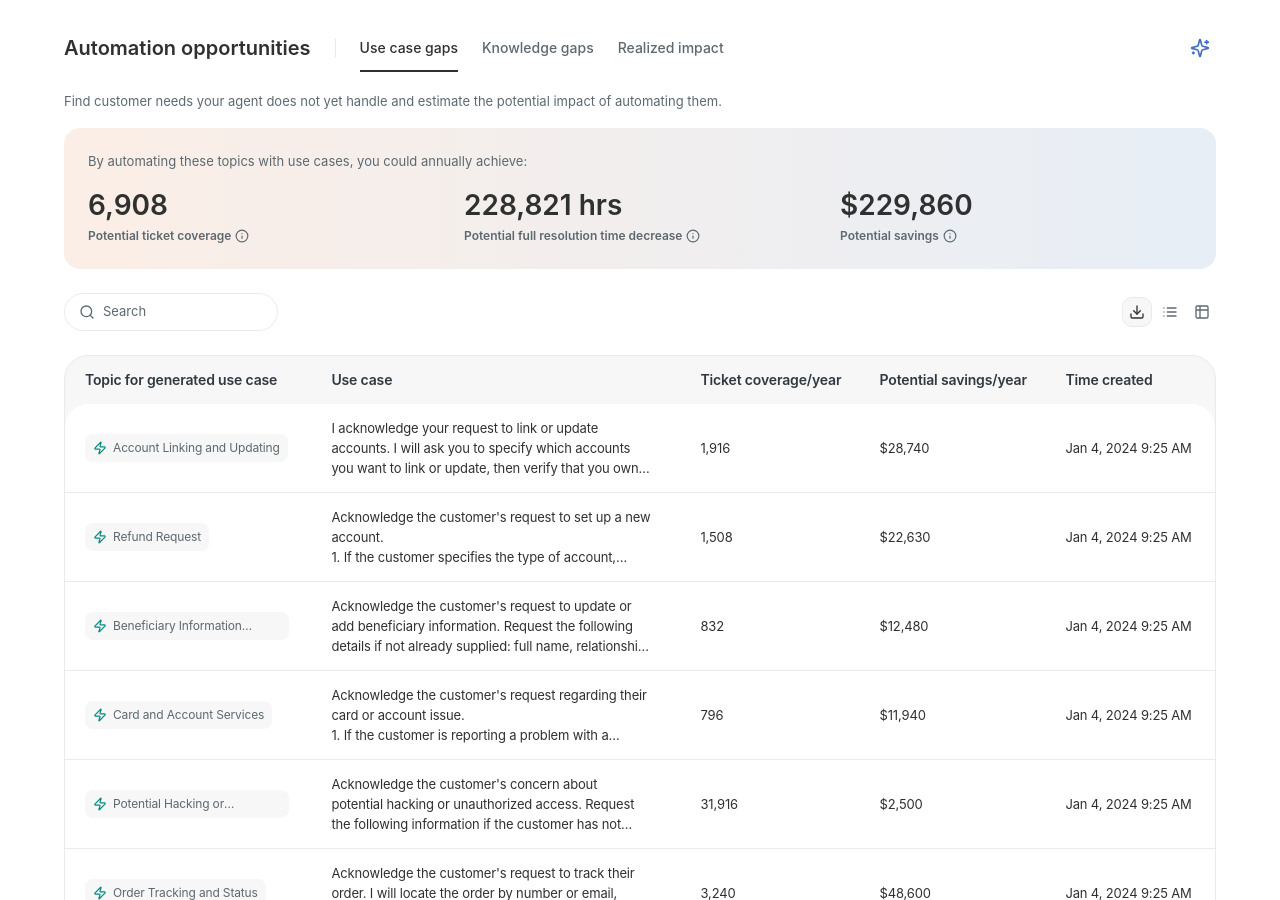
Test case: per-screen header AI triggers (route-derived scope) › opens the scoped assistant from /insights/automations header
Step 1. Click the button named "Ask AI about this page" → (1200, 48), box 1184,32 -> 1216,64
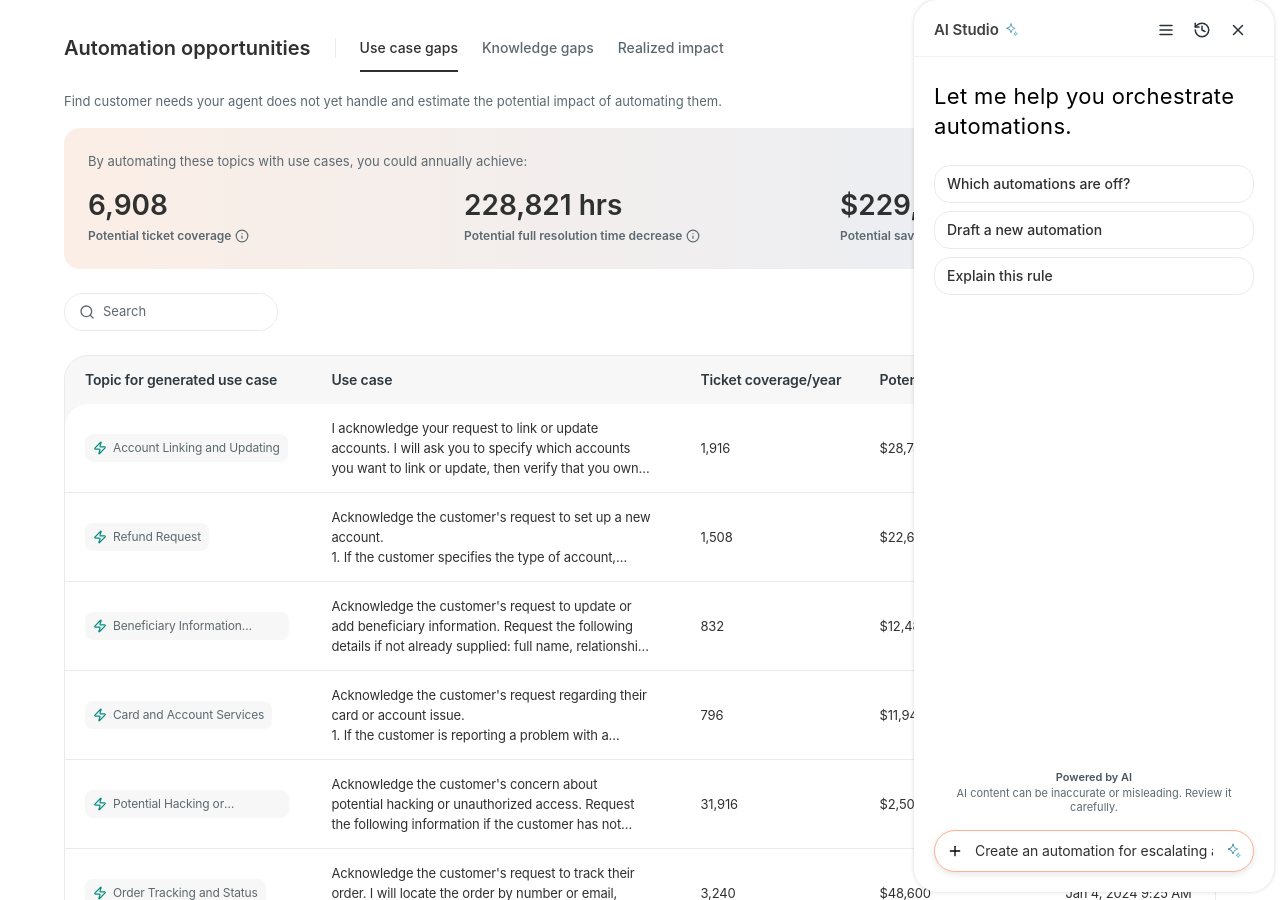
Now the element with test id "ai-studio-panel" is shown, box 914,0 -> 1274,892
Now the text "Let me help you orchestrate automations." is shown, box 934,81 -> 1254,141
